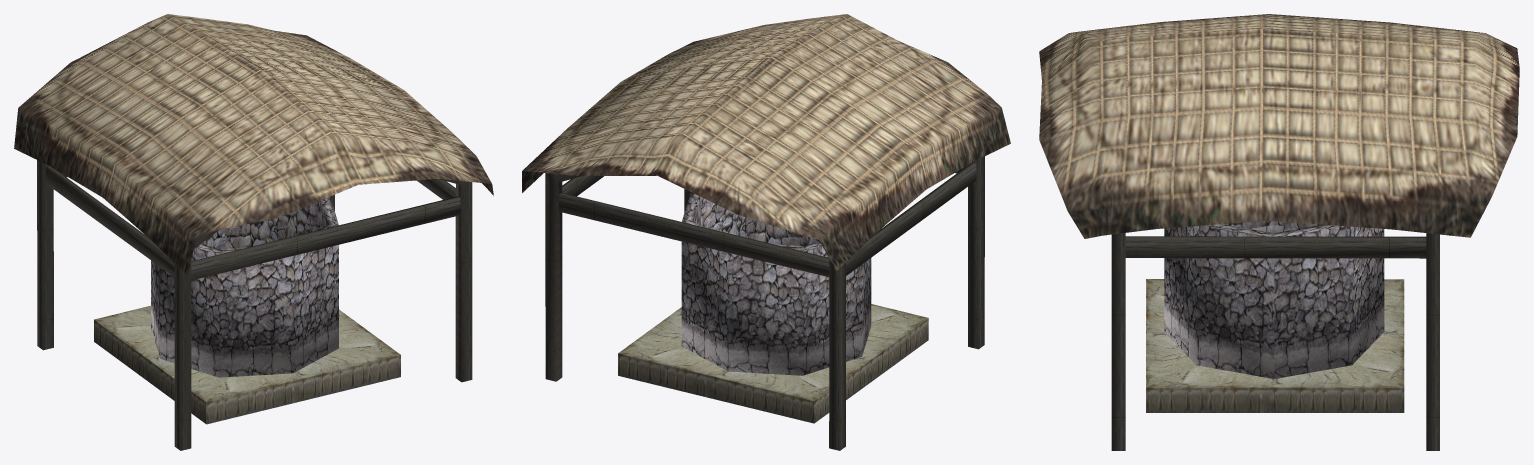
Rendered from U_mul.FBX.
The picture shows the model from 3 angles, left to right: view 1: azimuth 30°, elevation 25°; view 2: azimuth 150°, elevation 25°; view 3: azimuth 270°, elevation 25°; orthographic projection. The views are drawn at different scales.
Visible parts, largest first — view 1: polySurface564; view 2: polySurface564; view 3: polySurface564.
Part boxes in pixels (x1,y1,x2,y2): polySurface564: (14,14,493,450); polySurface564: (522,14,1010,450); polySurface564: (1039,14,1519,450).
Size of the model in its own units: 2.5 by 2.28 by 2.92.
